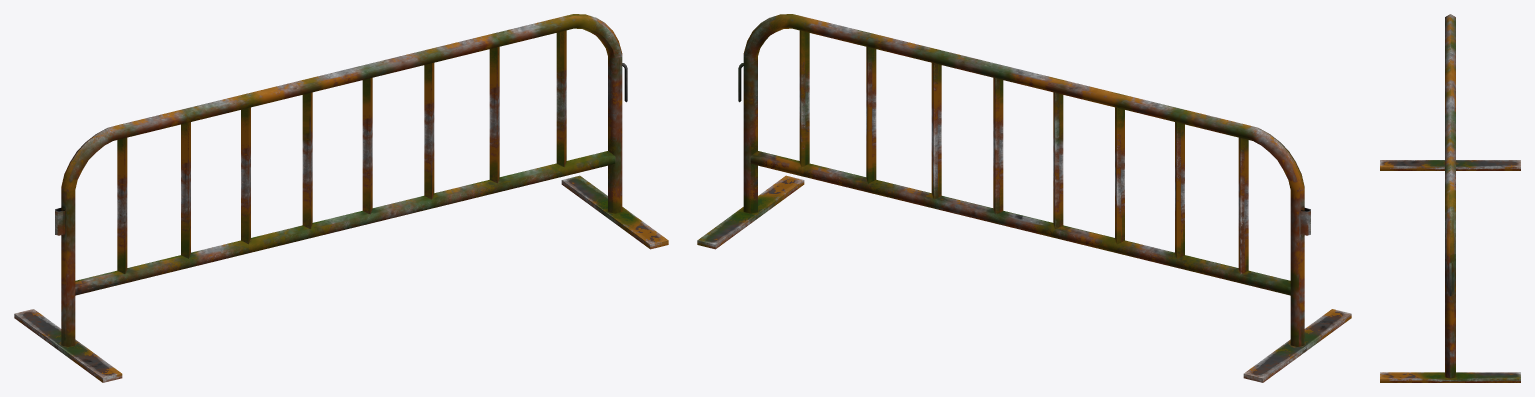
Rendered from BarrierMetal.fbx.
3 views of the same model, side by side, from view 1: azimuth 30°, elevation 25°; view 2: azimuth 150°, elevation 25°; view 3: azimuth 270°, elevation 25° (orthographic). The views are drawn at different scales.
Visible parts, largest first — view 1: barrier_metal_LOD0; view 2: barrier_metal_LOD0; view 3: barrier_metal_LOD0.
Boxes of the visible parts, x1,y1,x2,y2 form: barrier_metal_LOD0: (14, 14, 668, 382); barrier_metal_LOD0: (697, 14, 1351, 382); barrier_metal_LOD0: (1380, 14, 1520, 382).
Size of what is drawn, in the model's own units: 3.09 by 1.09 by 0.828.
